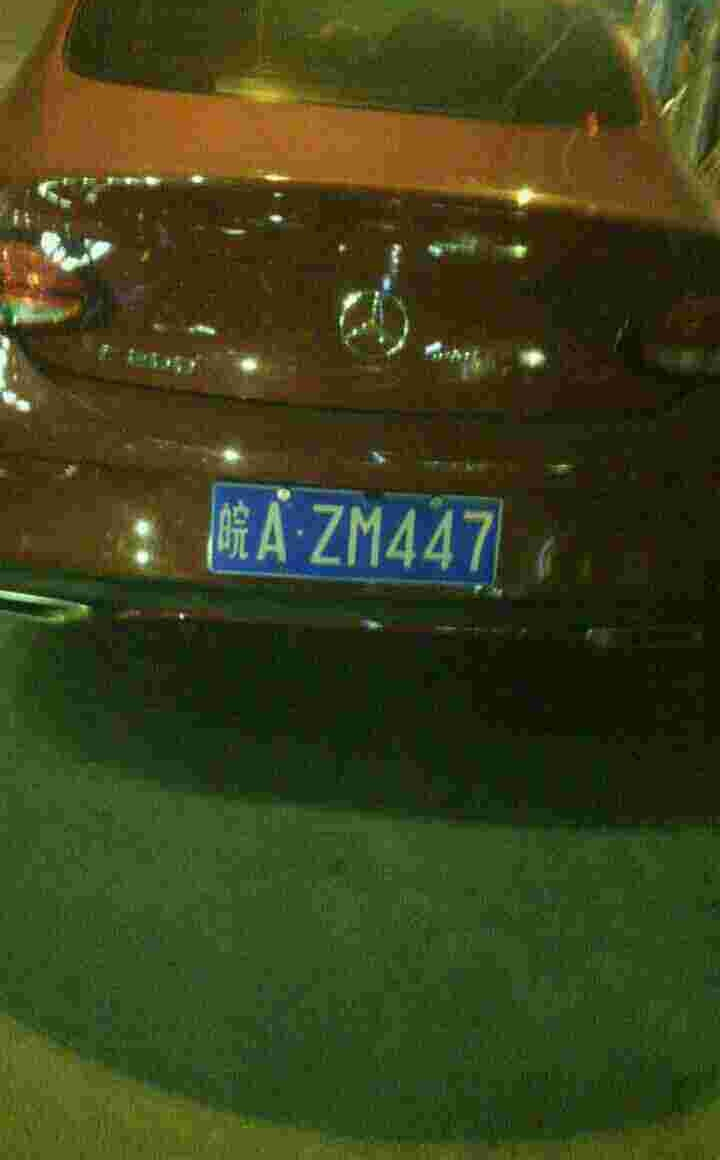license_plate: (209, 478, 498, 583)
